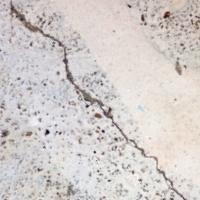crack: (13, 3, 182, 199)
